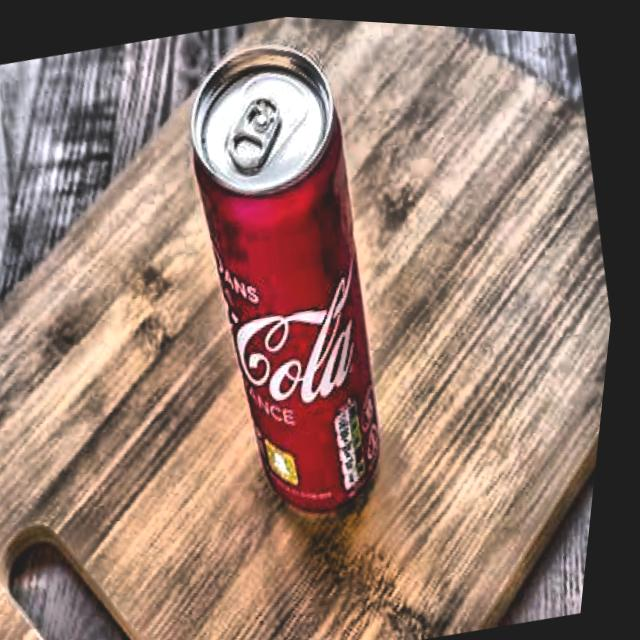Cans: (143, 32, 438, 534)
